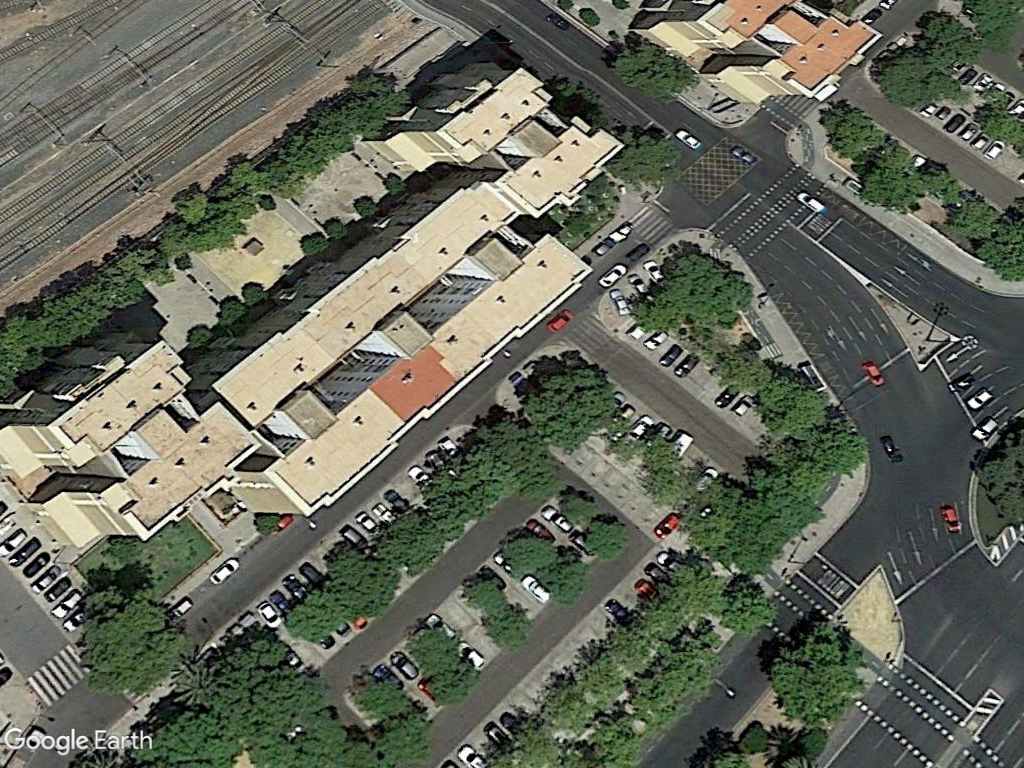car: (200, 553, 240, 587), (791, 185, 829, 217), (670, 125, 708, 155), (858, 357, 889, 390), (594, 260, 628, 290)
